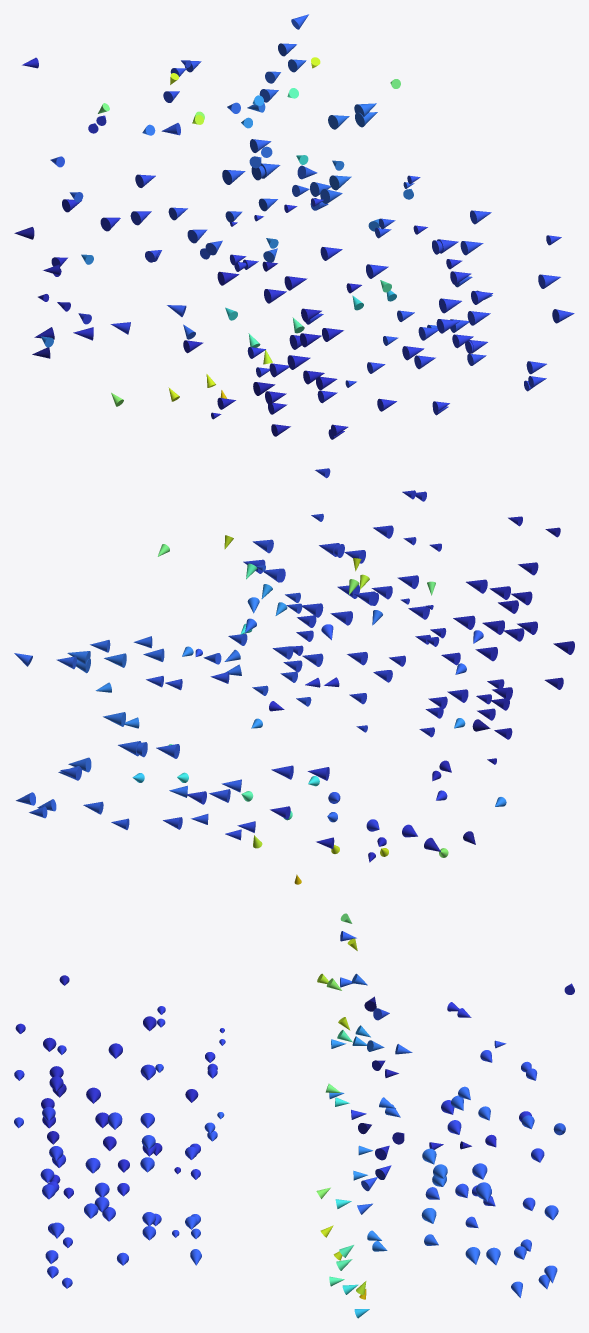
Rendered from LineasCorrienteN2-H2O_mh2-2.70_V-1.1.glb.
The picture shows the model from 3 angles, top to bottom: view 1: azimuth 30°, elevation 25°; view 2: azimuth 150°, elevation 25°; view 3: azimuth 270°, elevation 25°; orthographic projection. The views are drawn at different scales.
Size of the model in its own units: 0.000972 by 0.000796 by 0.00121.
Materials: 2 (2 with a texture image).
